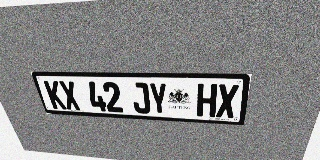2: (102, 82, 123, 112)
4: (85, 81, 108, 112)
H: (197, 84, 217, 117)
J: (130, 82, 151, 114)
K: (43, 80, 67, 109)
X: (216, 84, 239, 118), (58, 81, 81, 110)
Y: (148, 83, 168, 115)
